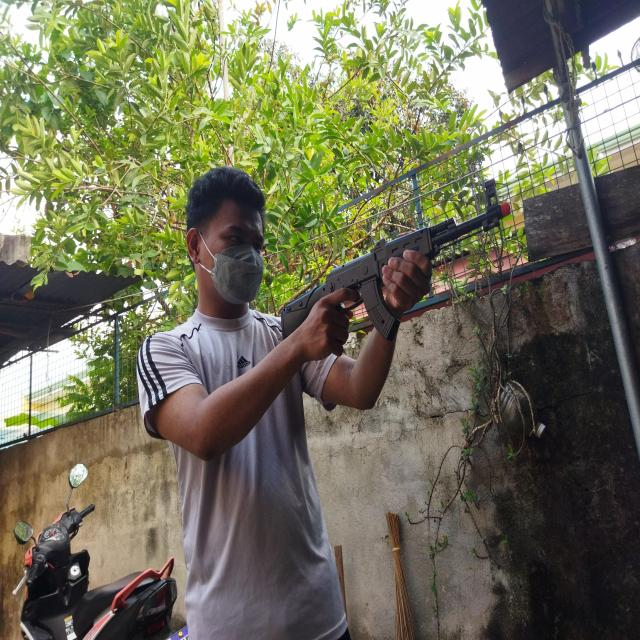rifle: (281, 178, 510, 349)
